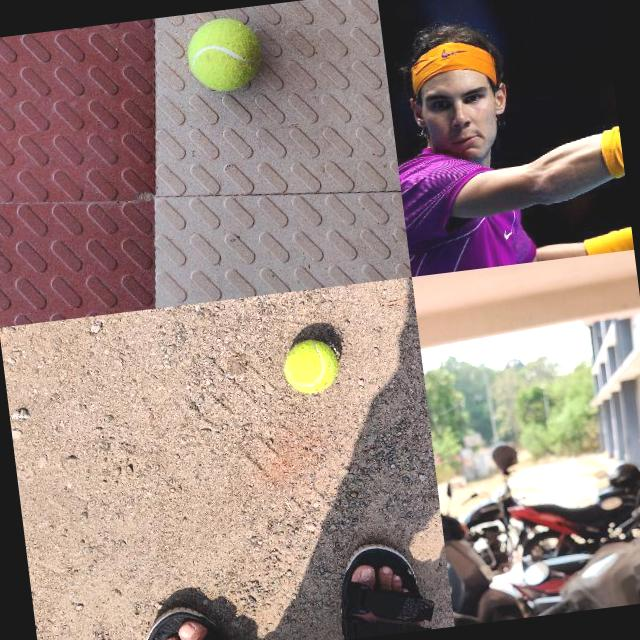Tennis Ball: (184, 14, 265, 94), (280, 336, 340, 396)
